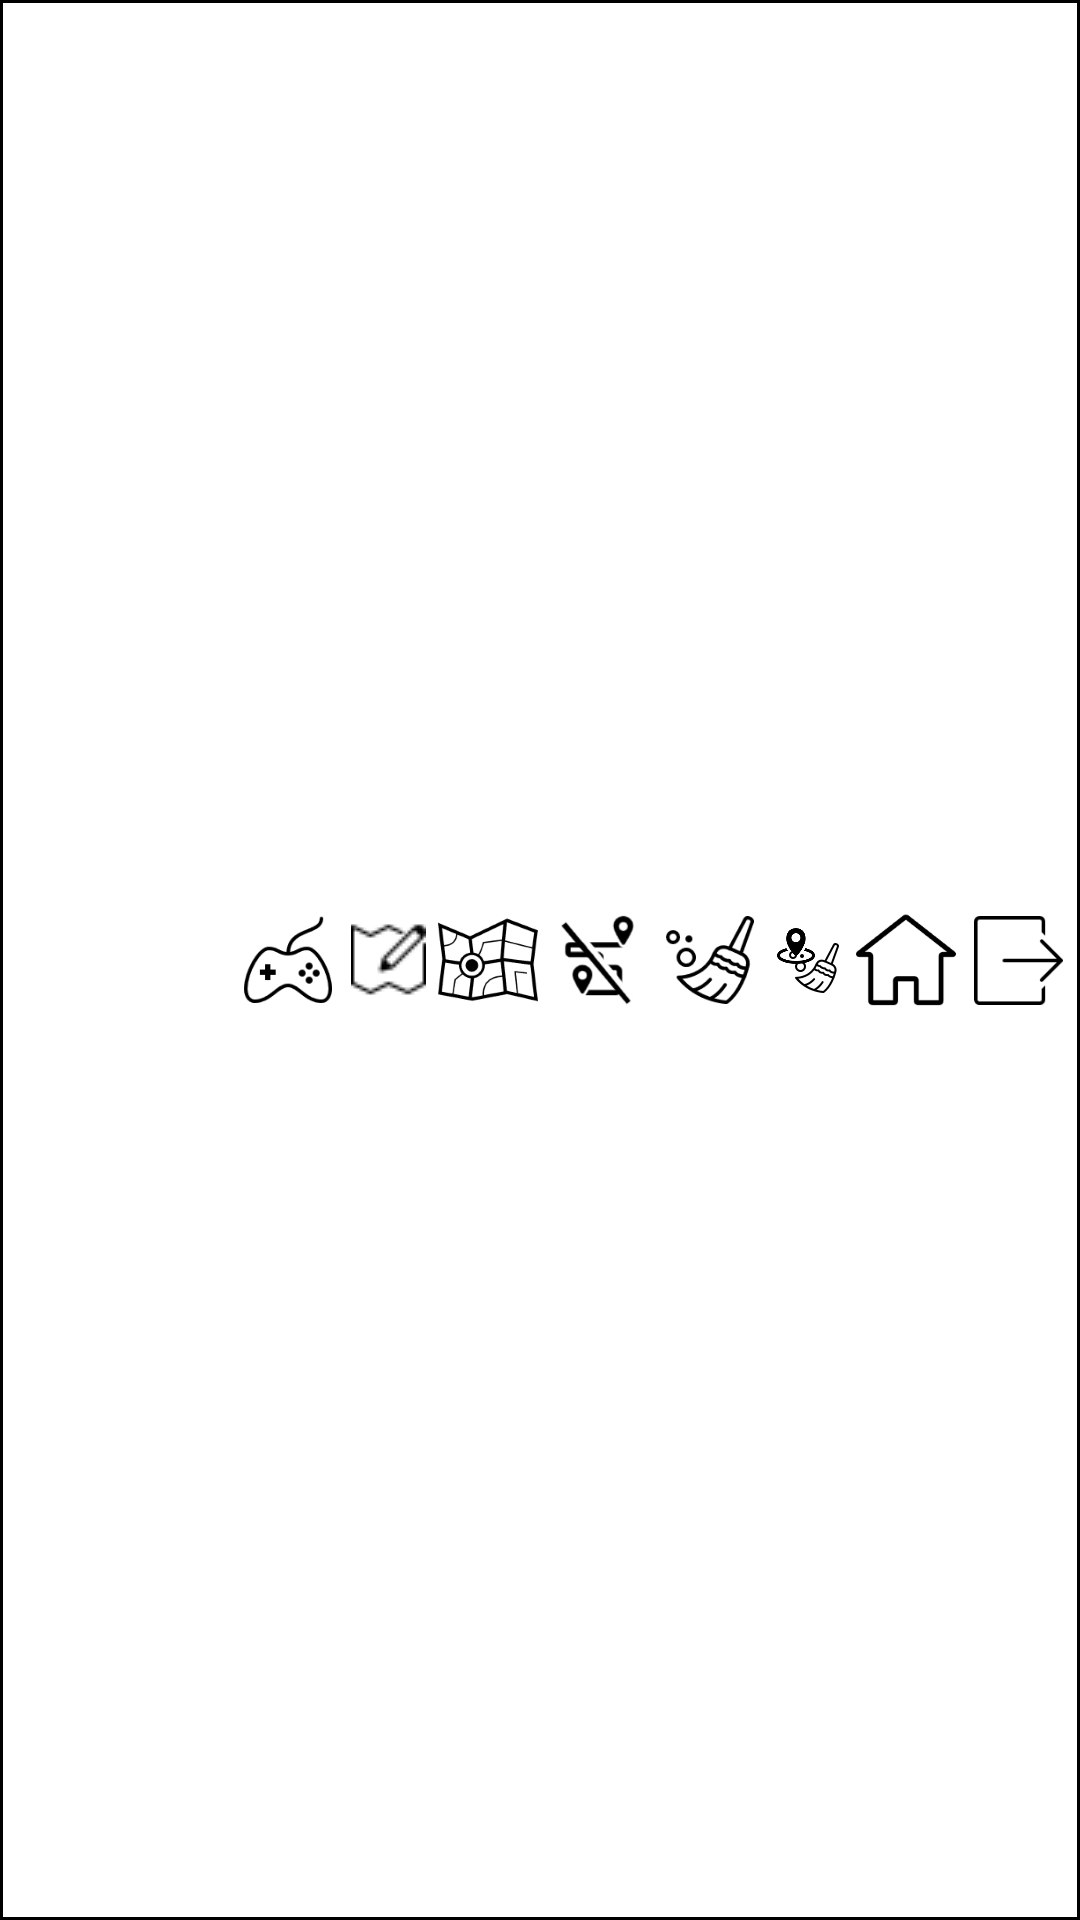

Screen size 1080 × 1920. Icon name, then its center in pixels as [x,y]:
clear track: [597,960]
controller: [288,959]
home: [906,960]
map edit: [388,959]
quit to connect: [1018,960]
sweep: [710,960]
sweep spot: [808,960]
